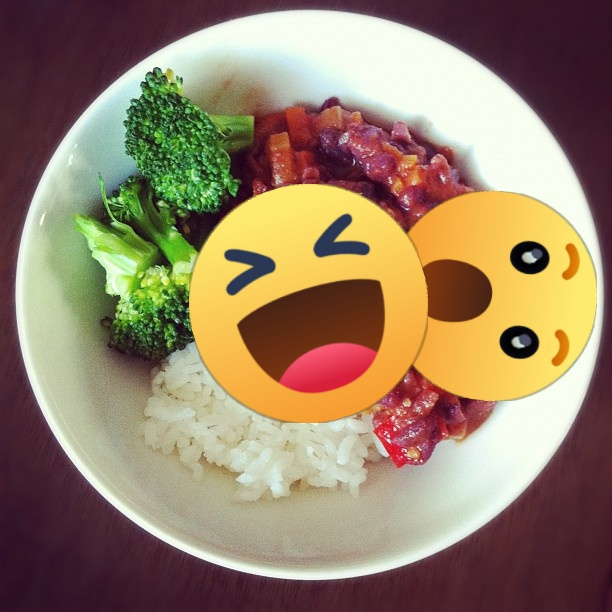haha: (189, 184, 428, 423)
wow: (387, 191, 597, 401)
